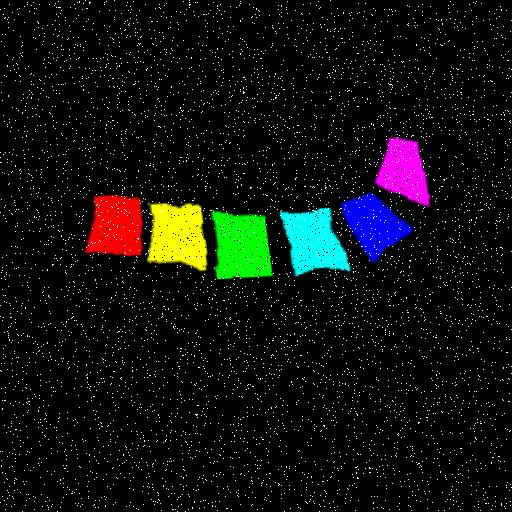L1: (84, 193, 142, 254)
L2: (146, 200, 204, 268)
L3: (211, 208, 271, 275)
L4: (279, 204, 347, 271)
L5: (340, 189, 410, 258)
S1: (376, 133, 428, 201)
